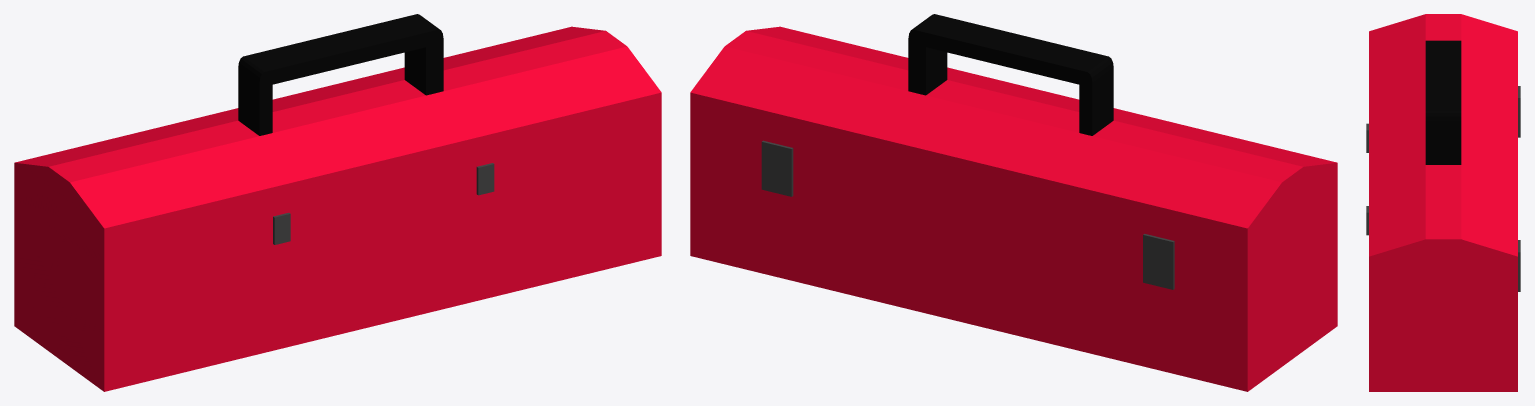
File: ToolBox.fbx
The picture shows the model from 3 angles, left to right: view 1: azimuth 30°, elevation 25°; view 2: azimuth 150°, elevation 25°; view 3: azimuth 270°, elevation 25°; orthographic projection. The views are drawn at different scales.
Parts seen in each view (by area): view 1: ToolBox, LID, Handle, Hinges.001; view 2: ToolBox, LID, Handle, Latches; view 3: LID, ToolBox, Handle, Latches, Hinges.001.
Boxes of the visible parts, x1,y1,x2,y2 form: ToolBox: [14, 131, 661, 391]; LID: [14, 26, 661, 267]; Handle: [238, 14, 443, 135]; Hinges.001: [273, 163, 494, 244]; ToolBox: [690, 131, 1337, 391]; LID: [690, 26, 1337, 267]; Handle: [908, 14, 1113, 135]; Latches: [761, 140, 1174, 289]; LID: [1369, 14, 1517, 288]; ToolBox: [1369, 289, 1517, 391]; Handle: [1425, 40, 1461, 164]; Latches: [1518, 86, 1520, 291]; Hinges.001: [1366, 123, 1368, 235].
Size of the model in its own units: 716 by 303 by 207.
